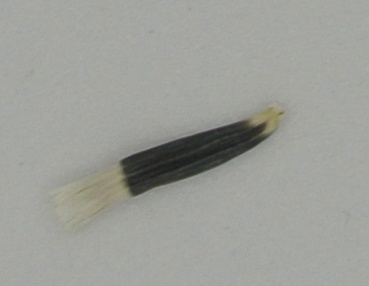เมล็ดดีติดกัน: (45, 100, 287, 235)
